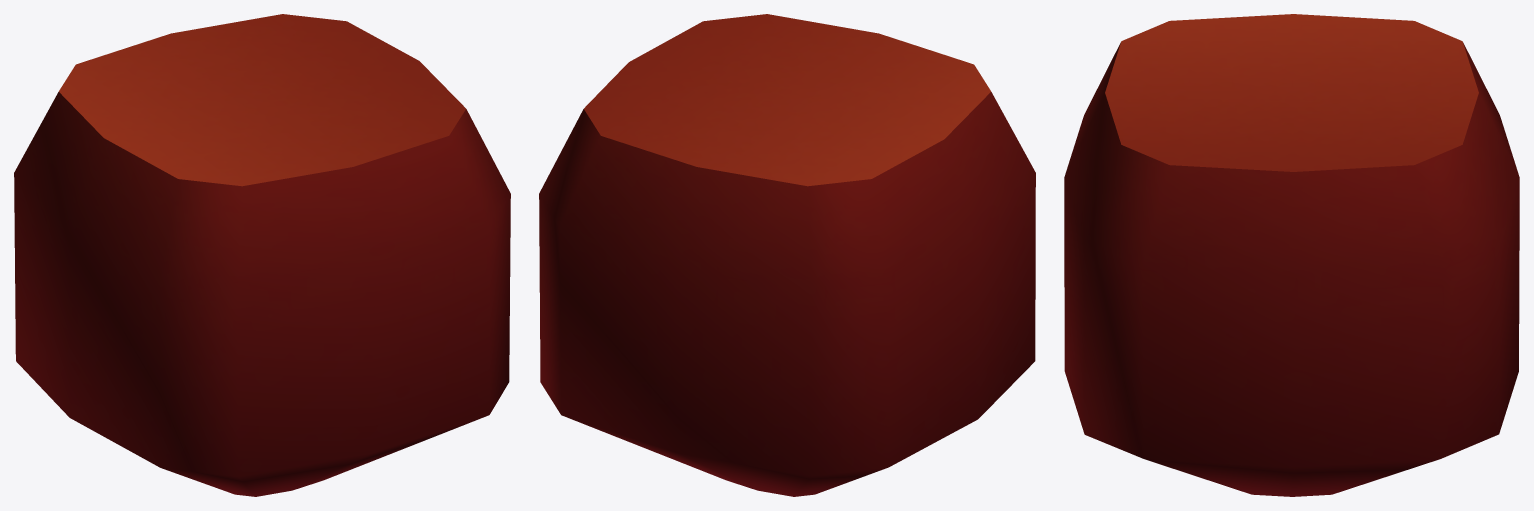
File: glass_wine_content.fbx
The picture shows the model from 3 angles, left to right: view 1: azimuth 30°, elevation 25°; view 2: azimuth 150°, elevation 25°; view 3: azimuth 270°, elevation 25°; orthographic projection. The views are drawn at different scales.
Visible parts, largest first — view 1: glass_wine_content; view 2: glass_wine_content; view 3: glass_wine_content.
Boxes of the visible parts, x1,y1,x2,y2 form: glass_wine_content: (14, 14, 510, 496); glass_wine_content: (539, 14, 1035, 496); glass_wine_content: (1064, 14, 1519, 496).
Size of the model in its own units: 19.95 by 18.27 by 19.95.
